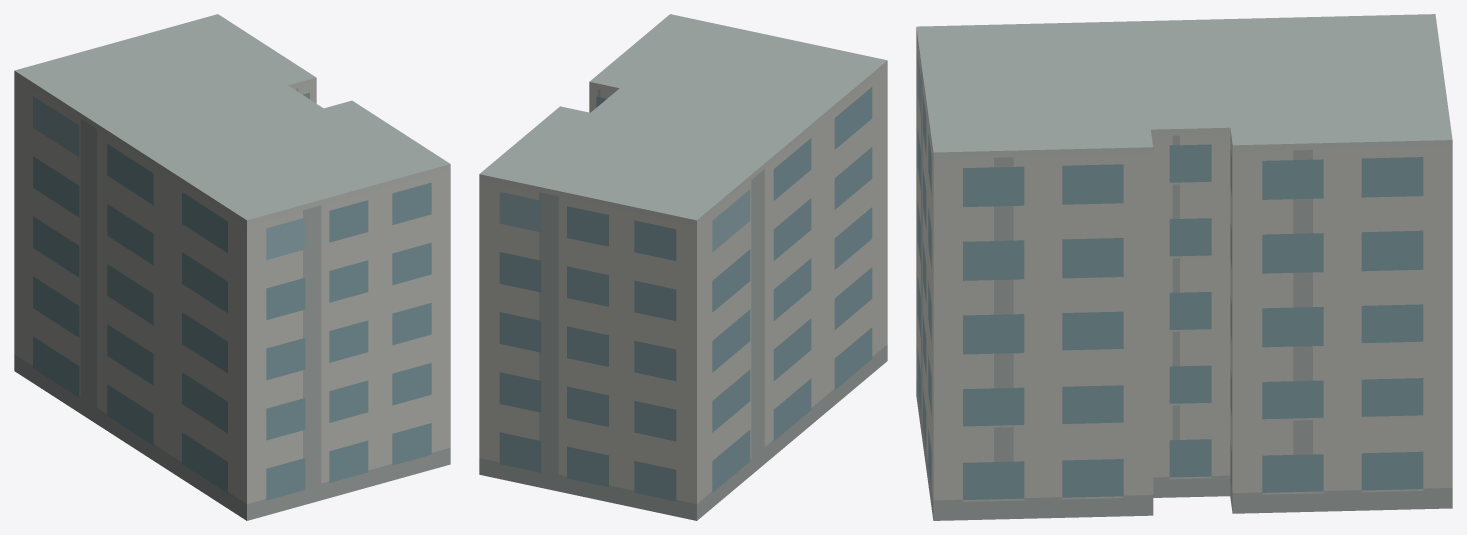
Rendered from survey-upis-32903436.glb.
3 views of the same model, side by side, from view 1: azimuth 30°, elevation 25°; view 2: azimuth 150°, elevation 25°; view 3: azimuth 270°, elevation 25° (orthographic). The views are drawn at different scales.
Parts seen in each view (by area): view 1: survey-upis-32903436.tmp; view 2: survey-upis-32903436.tmp; view 3: survey-upis-32903436.tmp.
Boxes of the visible parts, box(x1,y1,x2,y2) form: survey-upis-32903436.tmp: box(14, 14, 450, 520); survey-upis-32903436.tmp: box(479, 14, 887, 520); survey-upis-32903436.tmp: box(916, 14, 1452, 520).
Bounding box in the file's own units: 10.89 × 13.5 × 17.82.
